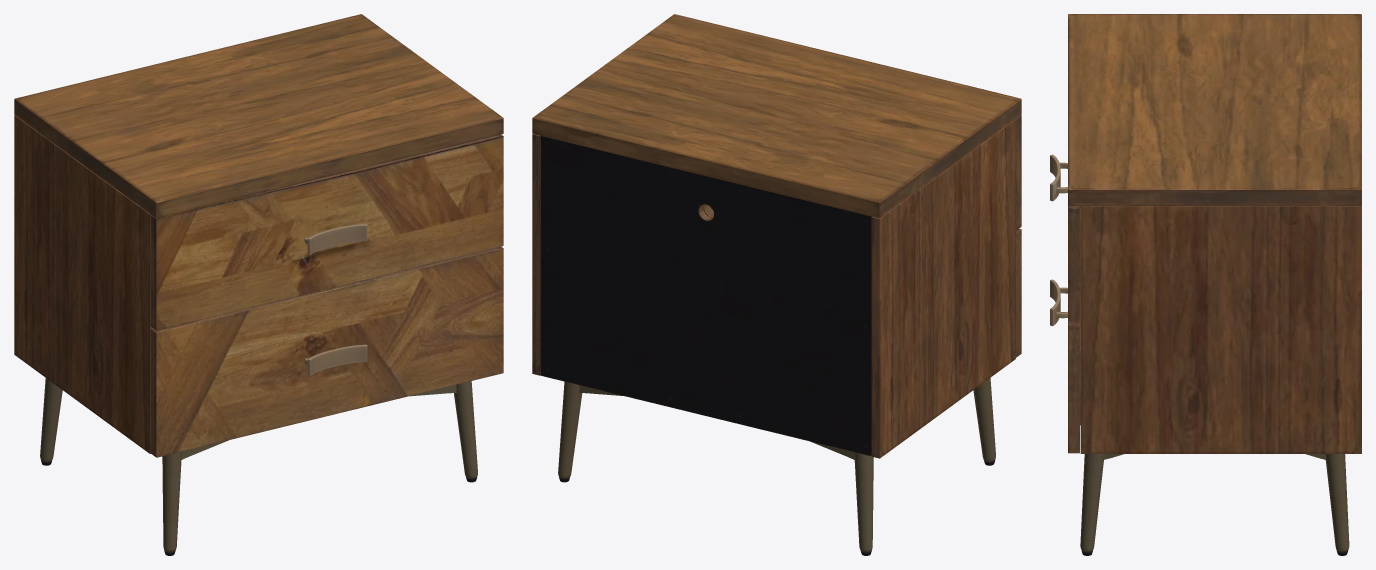
Rendered from abo-B075QMHYVD.glb.
3 views of the same model, side by side, from view 1: azimuth 30°, elevation 25°; view 2: azimuth 150°, elevation 25°; view 3: azimuth 270°, elevation 25° (orthographic). The views are drawn at different scales.
Bounding box in the file's own units: 0.61 × 0.61 × 0.458.
1 material, 1 textured.
